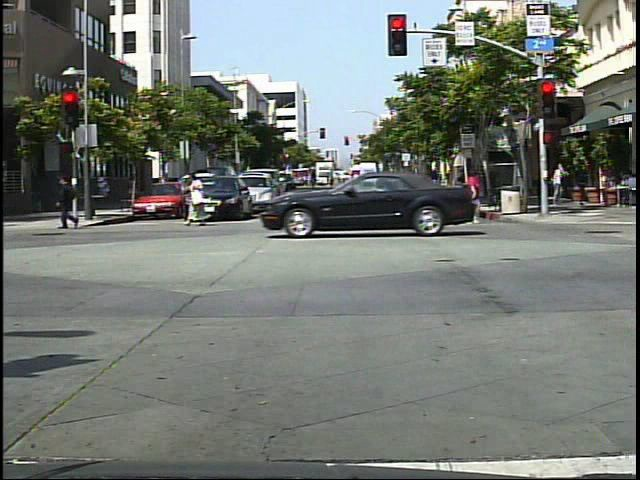person: (55, 169, 86, 235), (183, 169, 215, 229), (458, 166, 490, 226), (549, 160, 571, 208)
